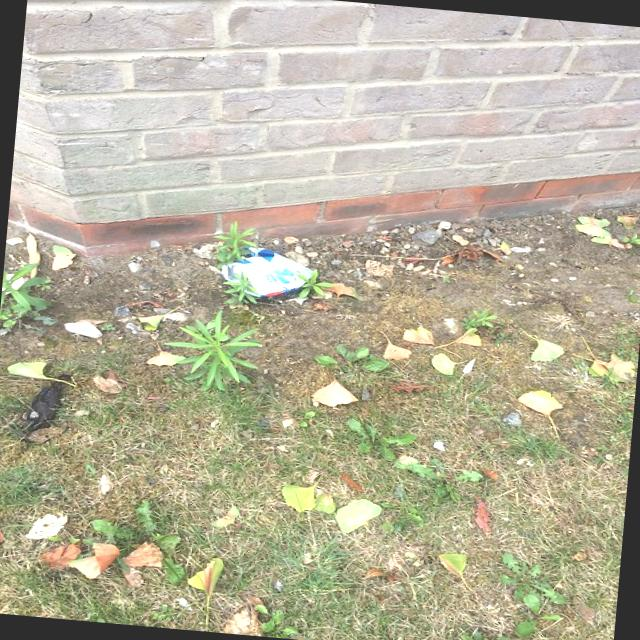Trash: (222, 239, 312, 307), (20, 366, 76, 438), (502, 408, 526, 432)
